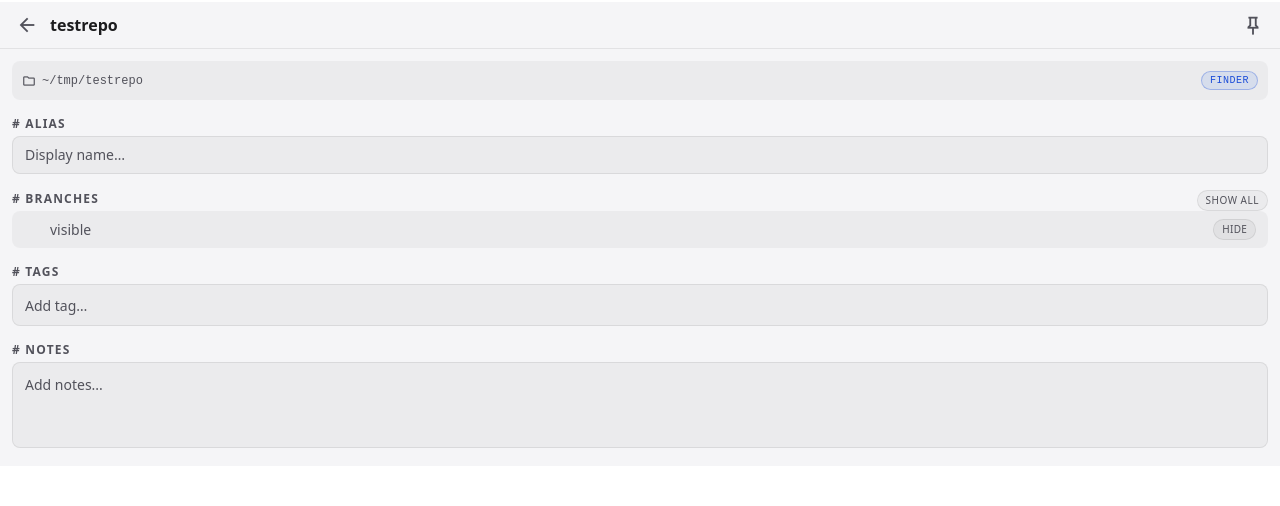
Test: DetailPane › show_all_reveals_hidden_branches
What coordinates should you click on to do the following:
click the button "Show all"
I would click on:
 (1232, 201)
Its box is [1197,190,1268,211].
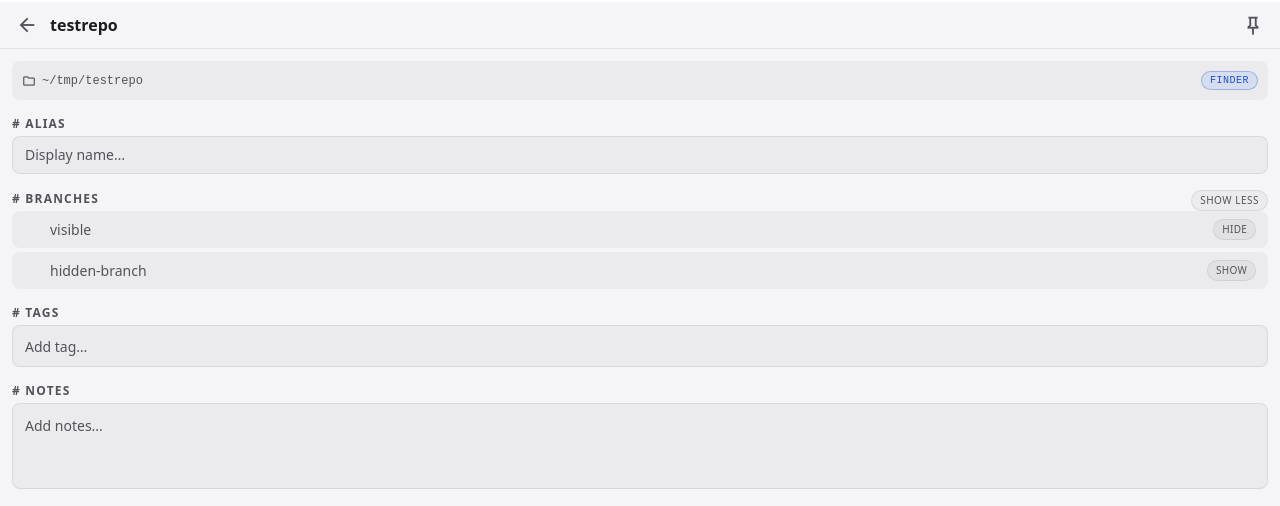
Now the button with aria-label "Activate branch hidden-branch" is shown, box [50,261,1199,281]
Now the button "Show less" is shown, box [1191,190,1268,211]
